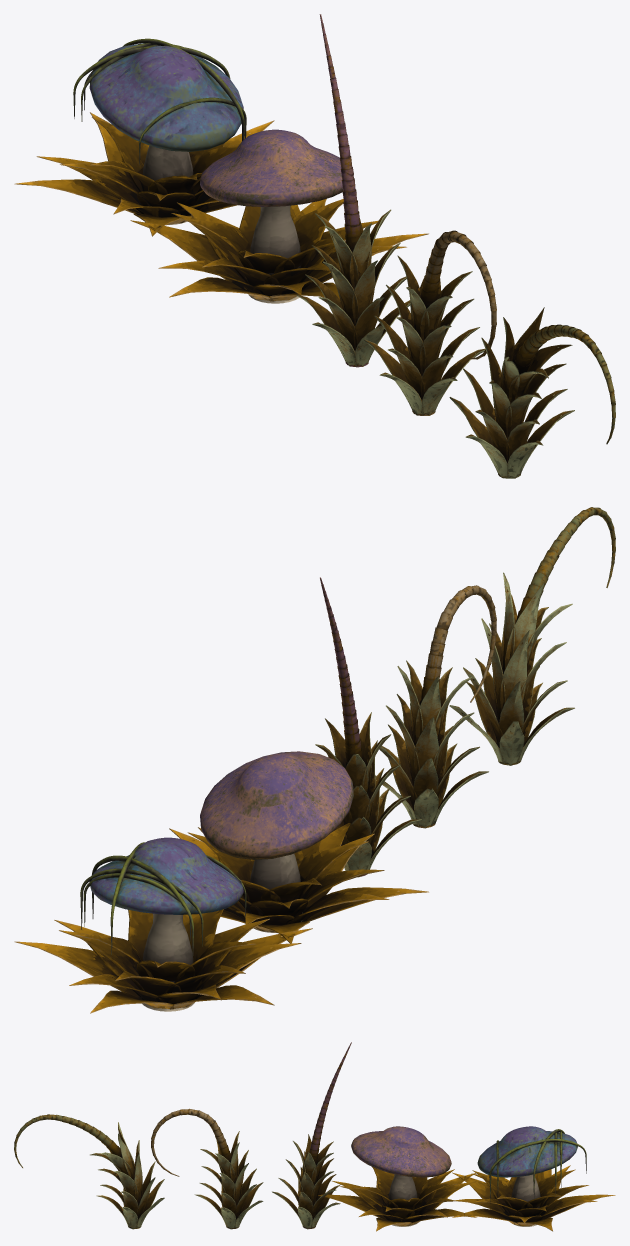
File: Plants 1.fbx
3 renders of one model, top to bottom at view 1: azimuth 30°, elevation 25°; view 2: azimuth 150°, elevation 25°; view 3: azimuth 270°, elevation 25°, orthographic. The views are drawn at different scales.
Parts seen in each view (by area): view 1: Cylinder_10, Cylinder_2, Cylinder, Cylinder_3, Cylinder_1; view 2: Cylinder_10, Cylinder_2, Cylinder, Cylinder_3, Cylinder_1; view 3: Cylinder_10, Cylinder_2, Cylinder, Cylinder_3, Cylinder_1.
Boxes of the visible parts, x1,y1,x2,y2 form: Cylinder_10: (14, 38, 274, 236); Cylinder_2: (130, 129, 428, 303); Cylinder: (449, 307, 615, 478); Cylinder_3: (363, 230, 496, 415); Cylinder_1: (296, 14, 410, 367); Cylinder_10: (14, 837, 312, 1013); Cylinder_2: (169, 751, 428, 943); Cylinder: (449, 507, 615, 765); Cylinder_3: (375, 585, 496, 828); Cylinder_1: (315, 577, 421, 877); Cylinder_10: (452, 1126, 615, 1231); Cylinder_2: (318, 1126, 476, 1231); Cylinder: (14, 1114, 164, 1229); Cylinder_3: (151, 1108, 263, 1229); Cylinder_1: (272, 1042, 351, 1229).
Bounding box in the file's own units: 697 × 822 × 2431.
